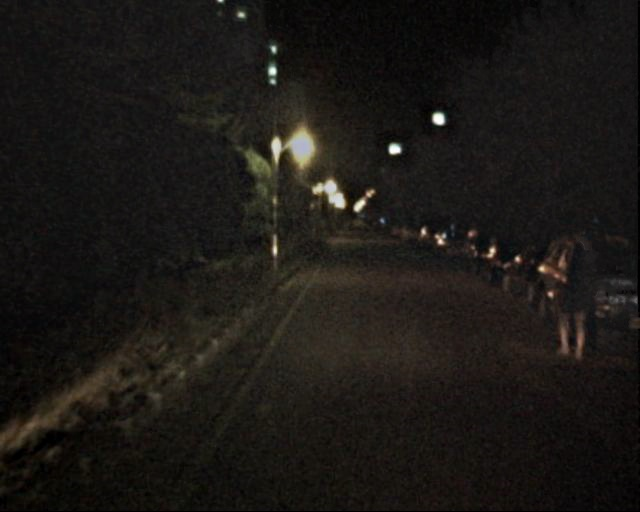person: (561, 229, 606, 338), (546, 254, 589, 360)
